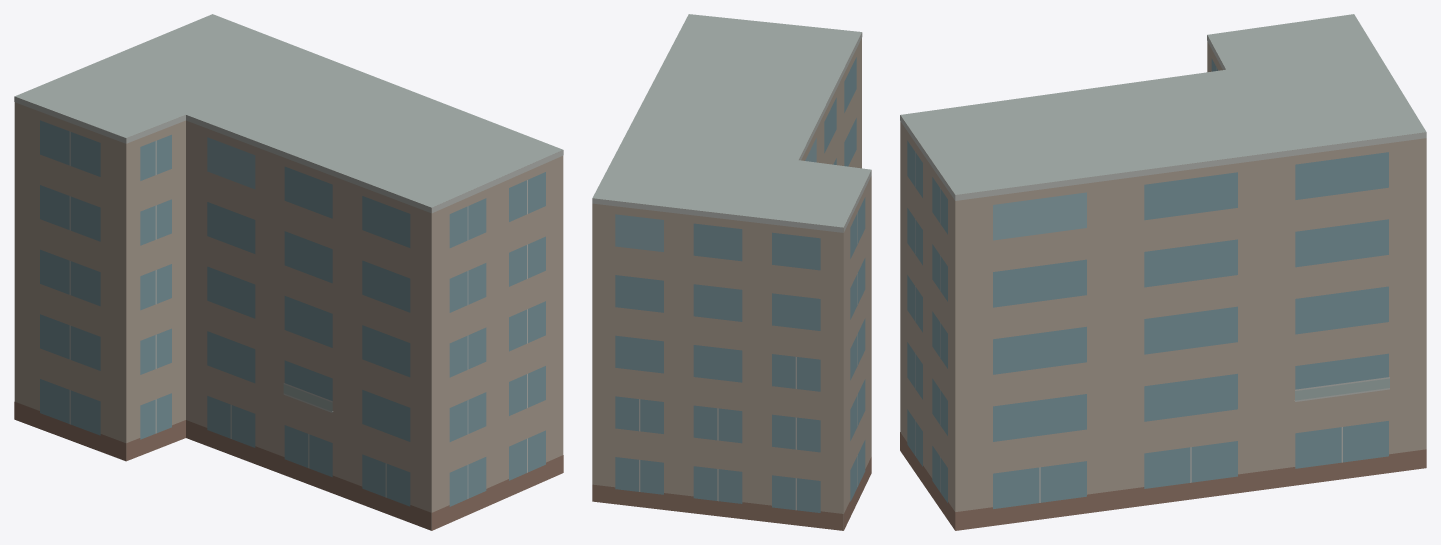
The model's file is survey-upis-32917650.glb.
3 renders of one model, left to right at view 1: azimuth 30°, elevation 25°; view 2: azimuth 150°, elevation 25°; view 3: azimuth 270°, elevation 25°, orthographic. The views are drawn at different scales.
Parts seen in each view (by area): view 1: survey-upis-32917650.tmp; view 2: survey-upis-32917650.tmp; view 3: survey-upis-32917650.tmp.
Part boxes in pixels (bbox=[...]): survey-upis-32917650.tmp: bbox=[14, 14, 563, 530]; survey-upis-32917650.tmp: bbox=[592, 14, 871, 530]; survey-upis-32917650.tmp: bbox=[900, 14, 1426, 530].
Bounding box in the file's own units: 15.96 × 13.8 × 19.61.
